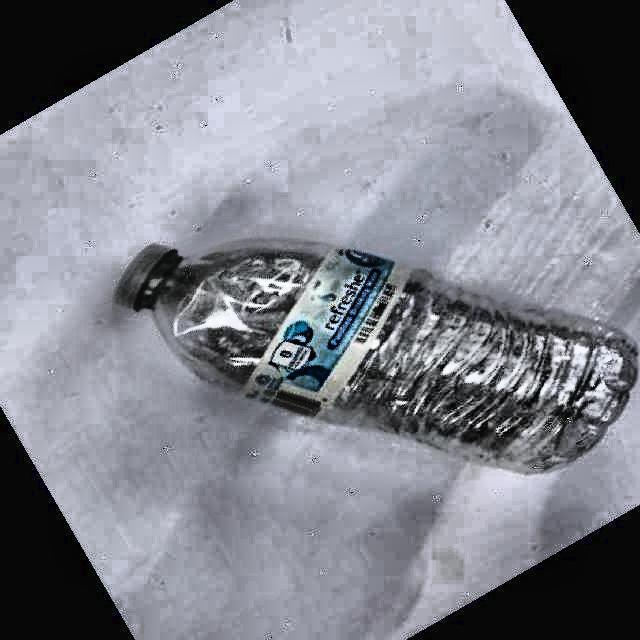plastic: (116, 239, 637, 472)
